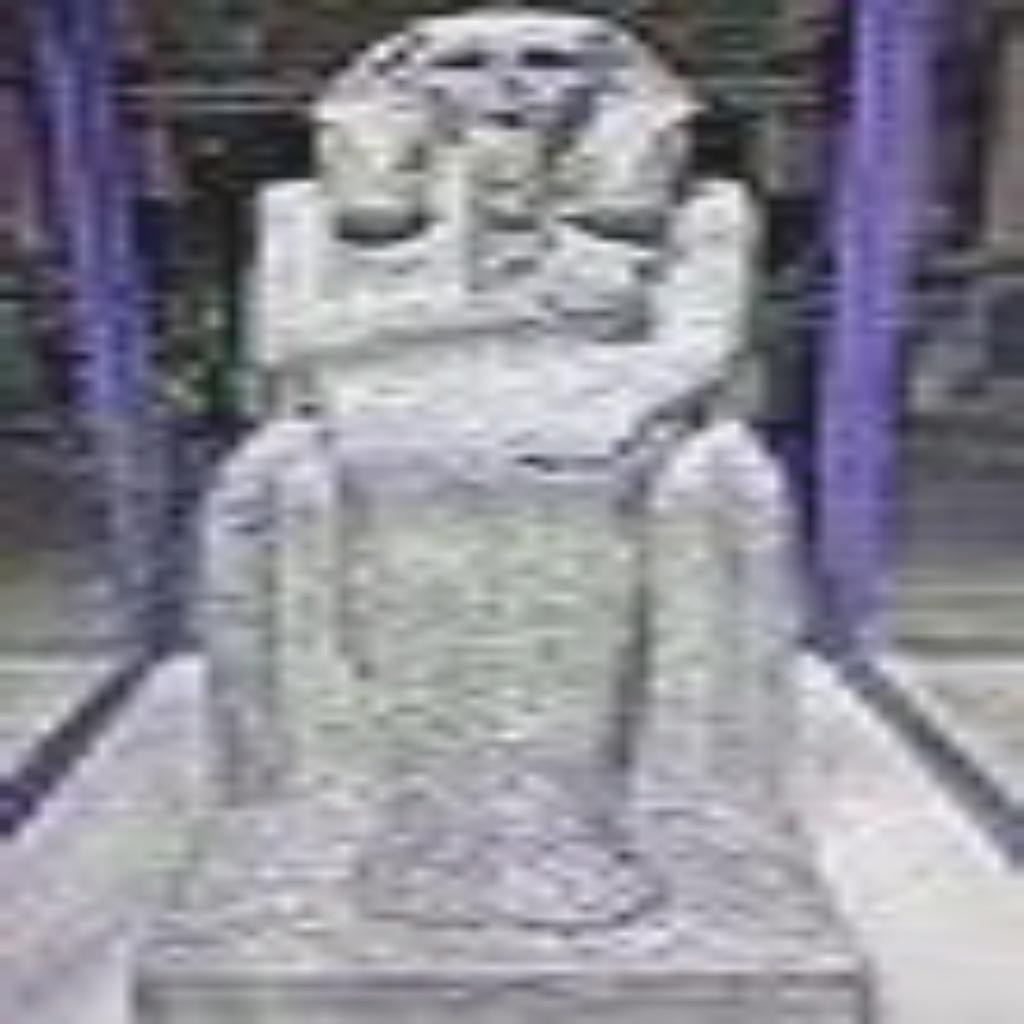Statue of King Zoser: (168, 0, 820, 947)
